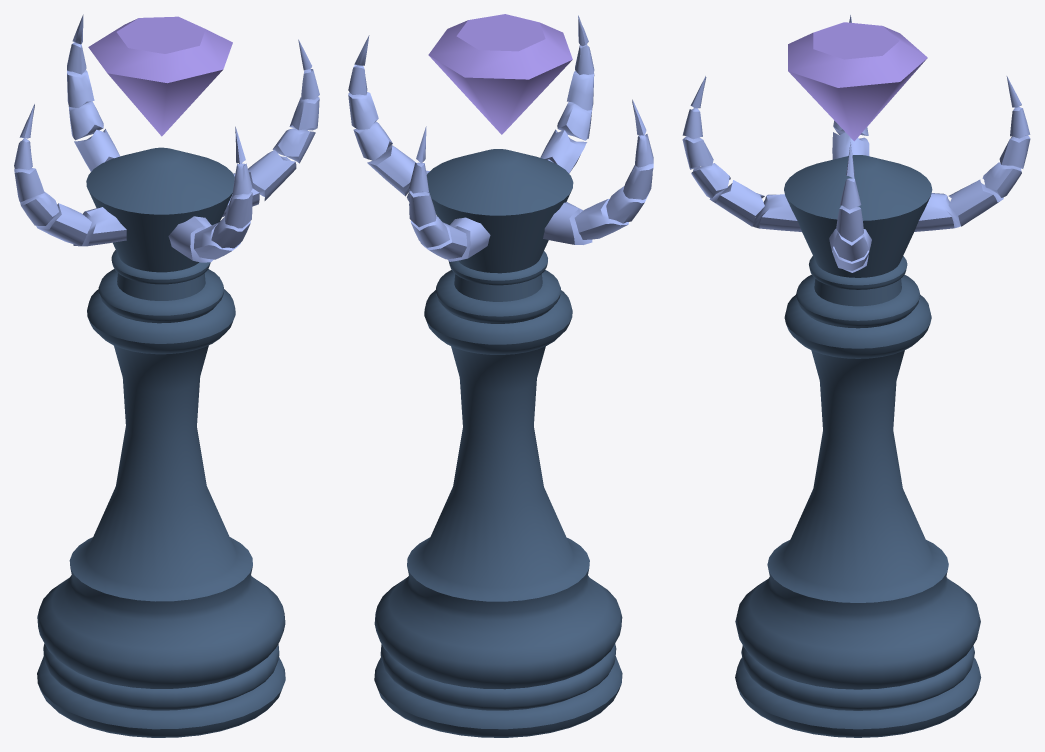
The model's file is pion_fix_.fbx.
The picture shows the model from 3 angles, left to right: view 1: azimuth 30°, elevation 25°; view 2: azimuth 150°, elevation 25°; view 3: azimuth 270°, elevation 25°; orthographic projection.
Visible parts, largest first — view 1: Cylinder.003, Cone, Cylinder.002, Cylinder.001; view 2: Cylinder.003, Cone, Cylinder.002, Cylinder.001; view 3: Cylinder.003, Cone, Cylinder.001, Cylinder.002.
Boxes of the visible parts, bbox=[...] form: Cylinder.003: bbox=[37, 147, 285, 737]; Cone: bbox=[88, 16, 232, 136]; Cylinder.002: bbox=[14, 39, 319, 246]; Cylinder.001: bbox=[67, 14, 252, 262]; Cylinder.003: bbox=[374, 149, 622, 737]; Cone: bbox=[428, 14, 572, 134]; Cylinder.002: bbox=[348, 35, 653, 244]; Cylinder.001: bbox=[409, 15, 594, 261]; Cylinder.003: bbox=[735, 155, 981, 737]; Cone: bbox=[788, 22, 927, 141]; Cylinder.001: bbox=[682, 76, 1030, 231]; Cylinder.002: bbox=[829, 15, 871, 272].
Bounding box in the file's own units: 69.3 × 142 × 69.3.
